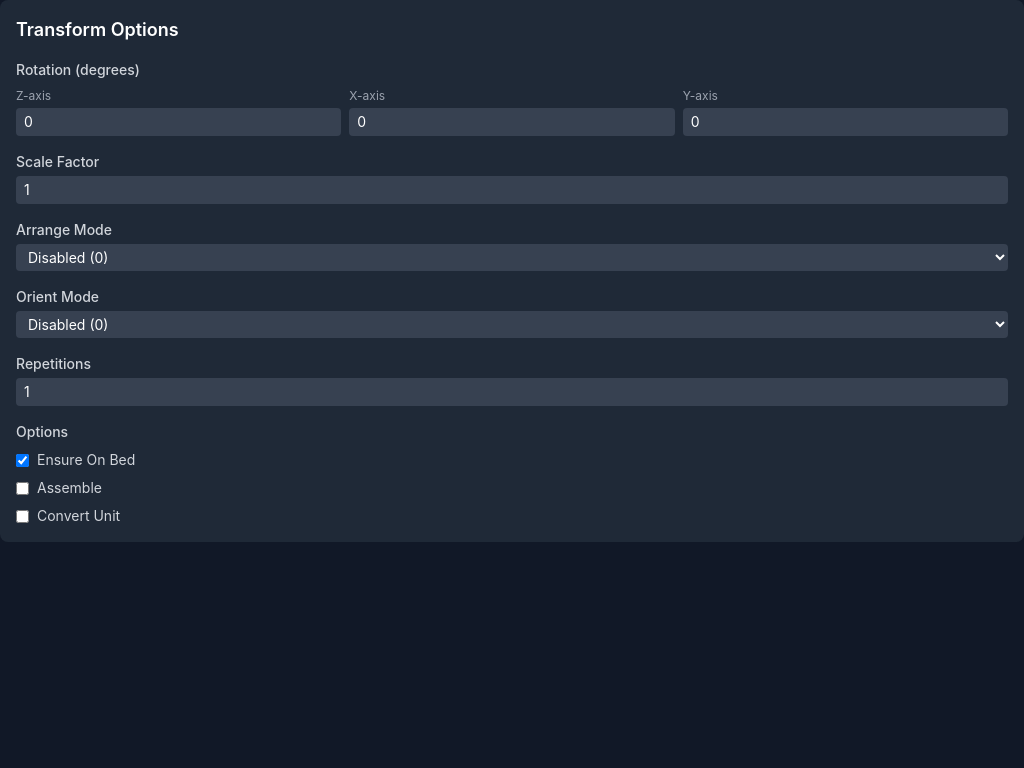
Scenario: TransformPanel › hides arrange sub-options when arrange is 0
// Set to Mode 1 first
Select "Mode 1" in the dropdown labelled "Arrange Mode": (512, 258) top-left (16, 244), bottom-right (1008, 271)
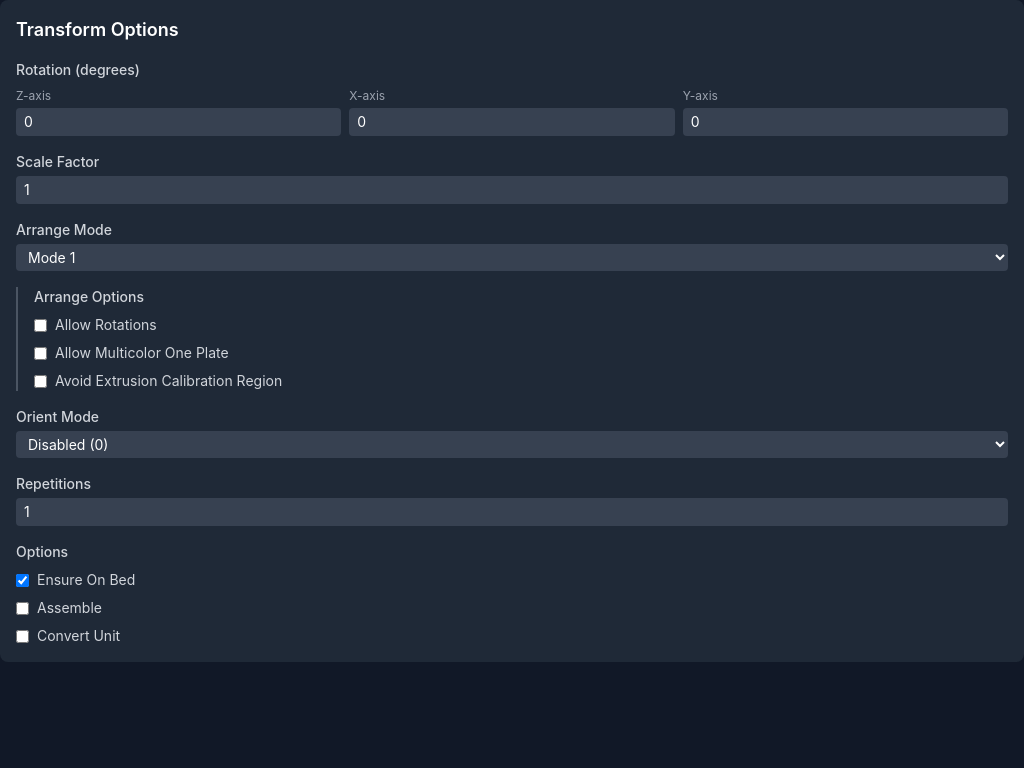
Check: the heading "Arrange Options" is shown, box top-left (34, 288), bottom-right (144, 305)
// Change back to 0
Select "Disabled (0)" in the dropdown labelled "Arrange Mode": (512, 258) top-left (16, 244), bottom-right (1008, 271)
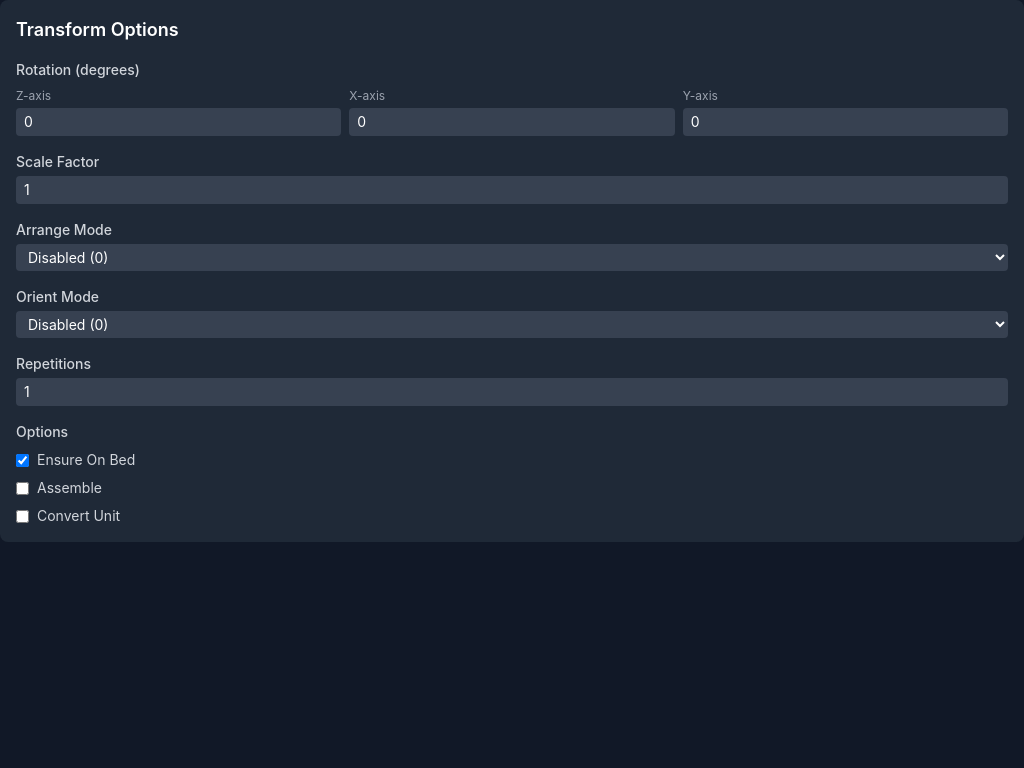
Check: the heading "Arrange Options" is gone
